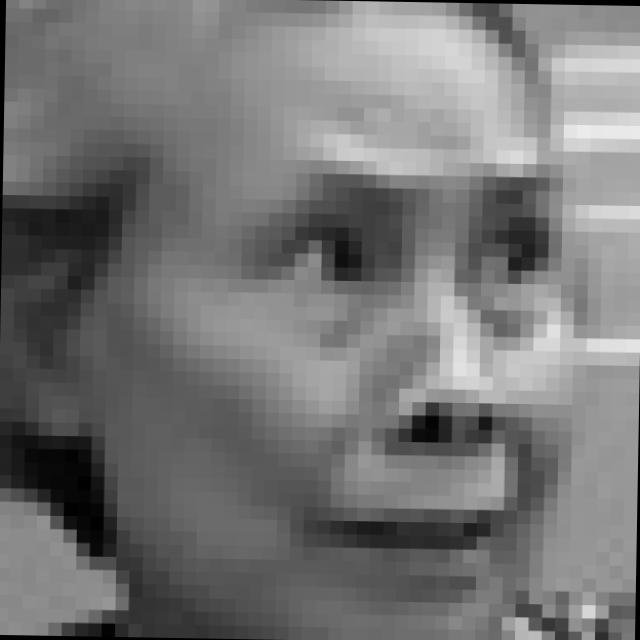fear: (220, 147, 560, 601)
